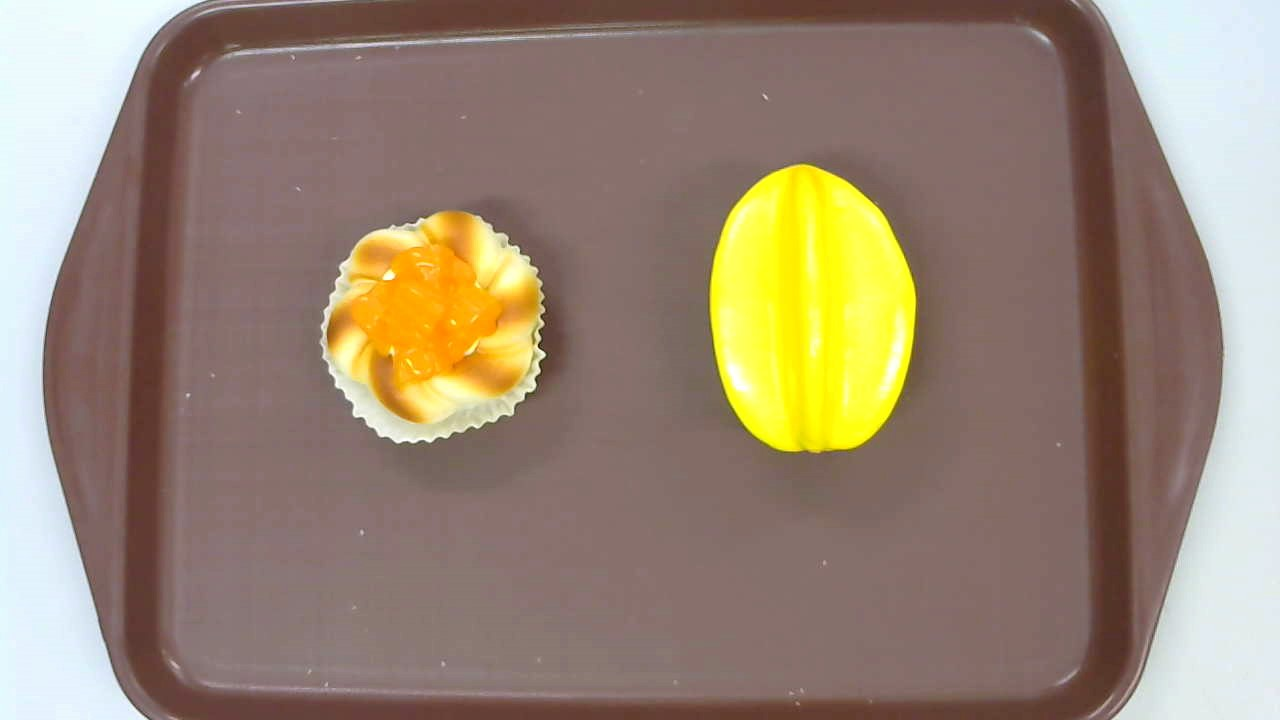mango tart: (318, 208, 544, 448)
star fruit: (710, 163, 917, 454)
